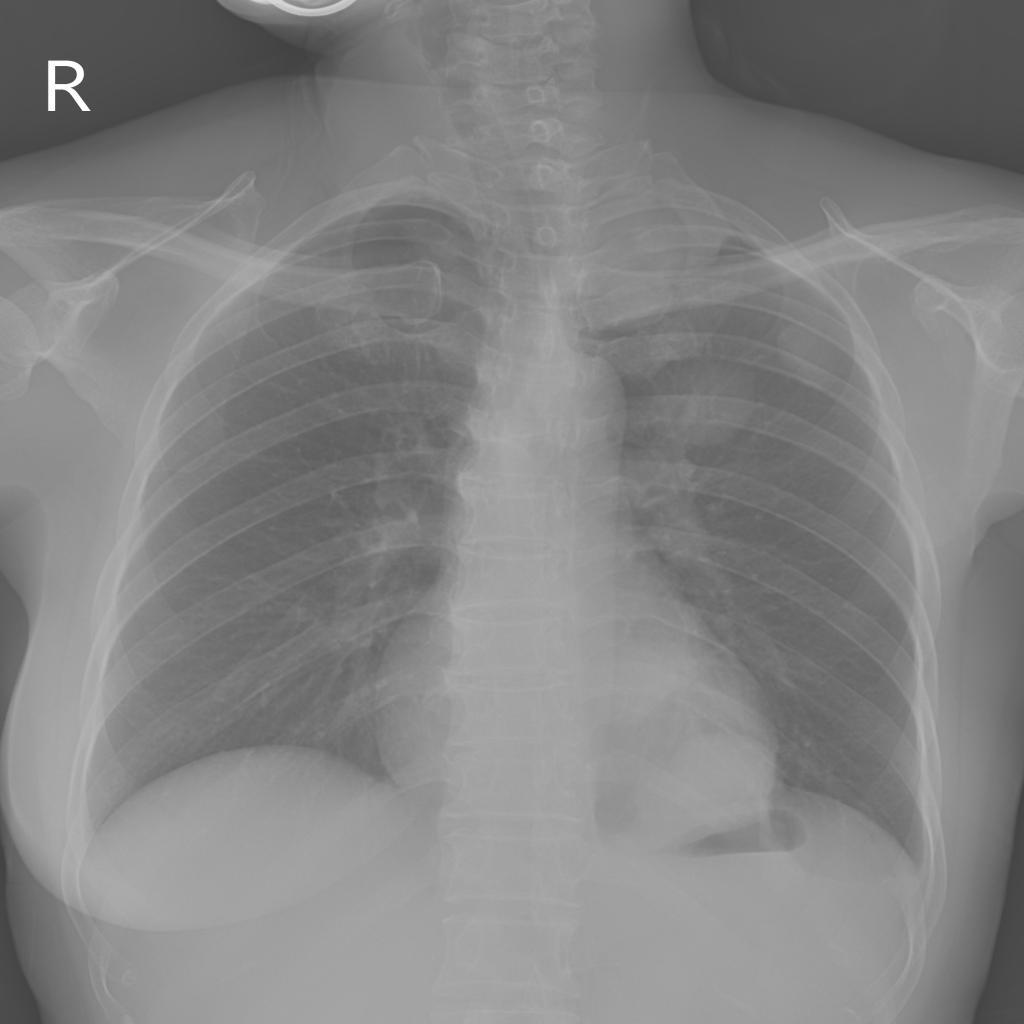Nodule: (661, 730, 777, 829), (646, 361, 758, 448), (777, 324, 842, 384)
